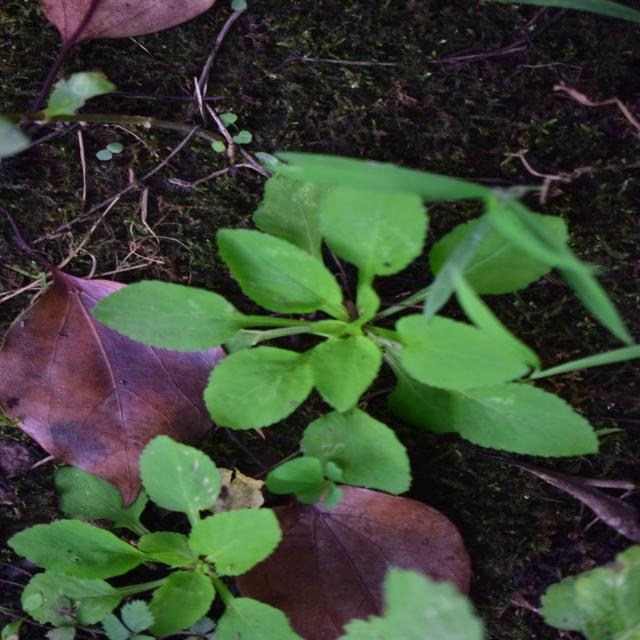Viola: (199, 134, 450, 536), (0, 10, 197, 276)
